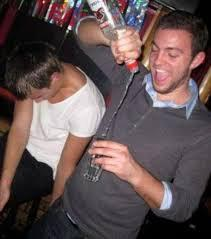Drunk: (151, 29, 187, 94)
